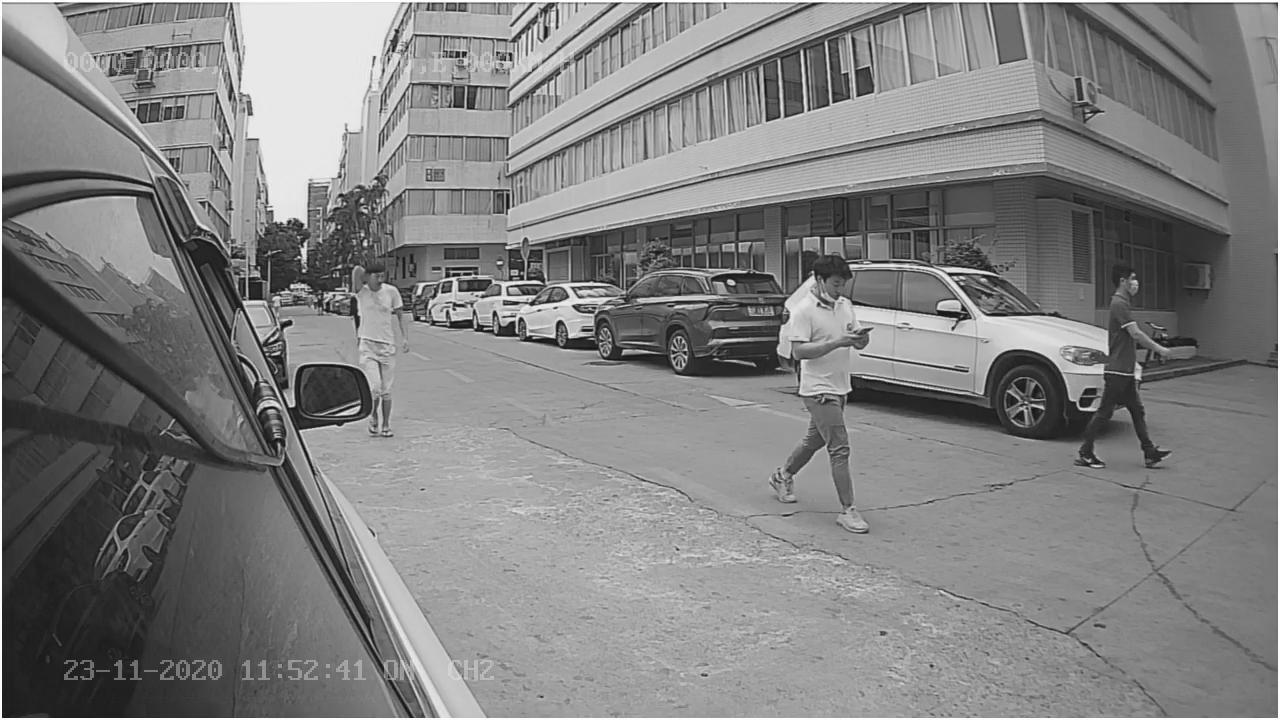person: (779, 257, 867, 518), (346, 254, 410, 361)
